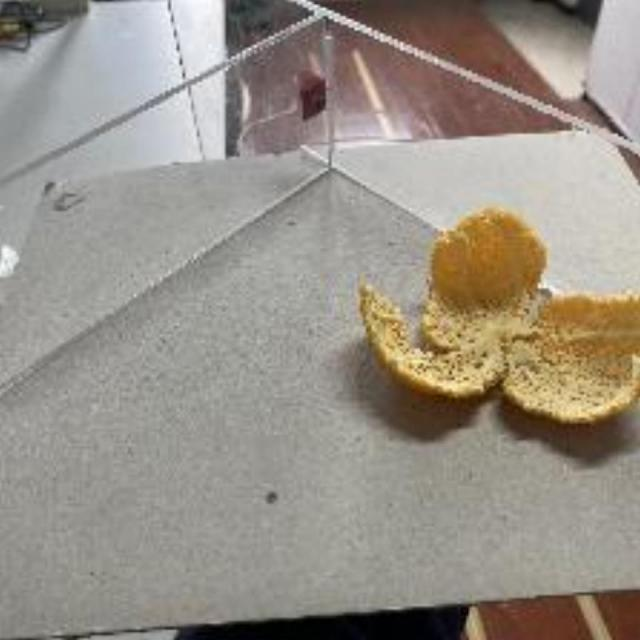orange peel: (353, 202, 639, 434)
